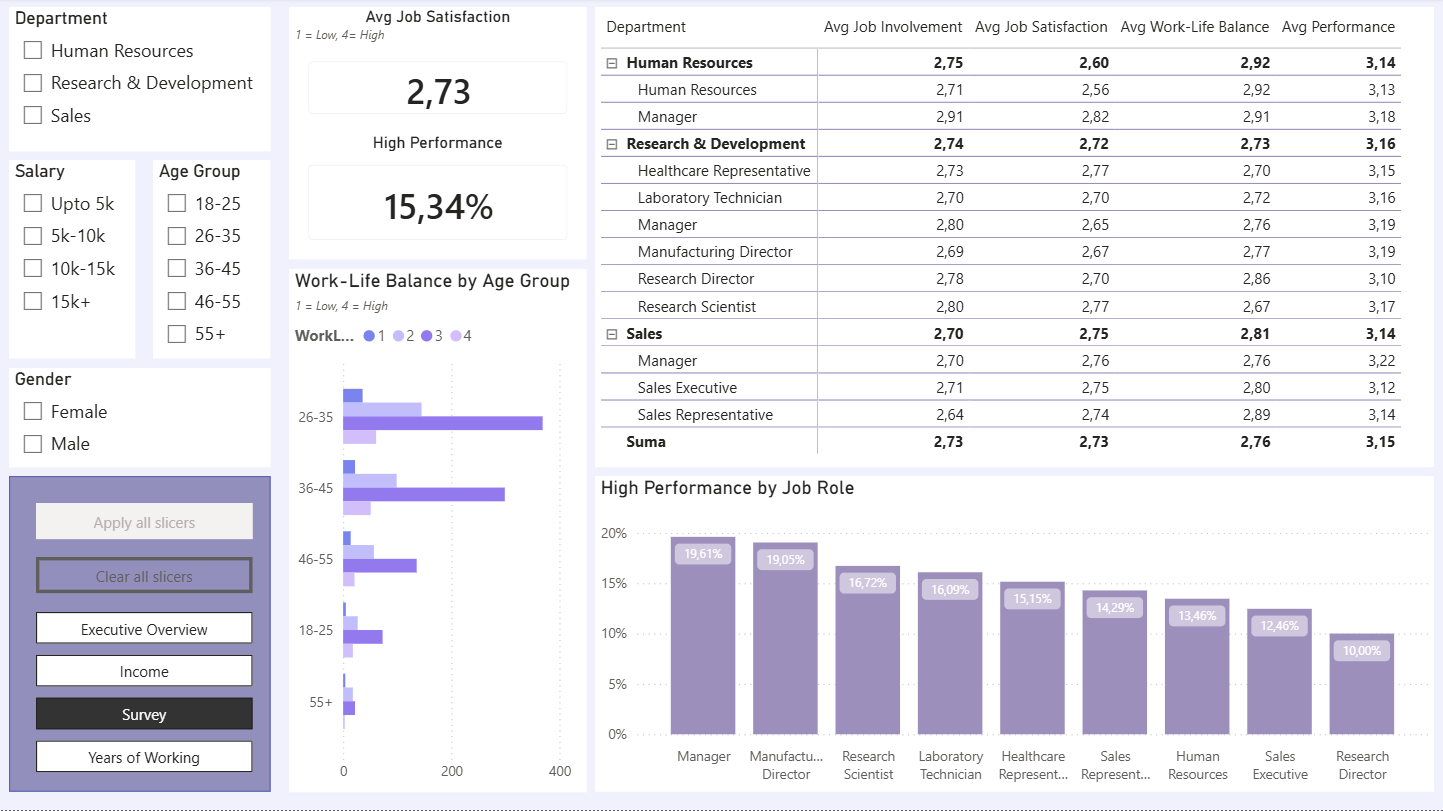

This screenshot's page, from the dashboard's own definition file:
{"tool":"powerbi","page":{"name":"Survey","canvas":[1280,720],"ordinal":2},"visuals":[{"type":"slicer","title":"Salary","fields":{"Values":["HR_Analytics.Salary Slab"]},"box":[8,144,112,176],"z":0},{"type":"slicer","title":"Gender","fields":{"Values":["HR_Analytics.Gender"]},"box":[8,328,232,88],"z":1000},{"type":"slicer","title":"Department","fields":{"Values":["HR_Analytics.Department"]},"box":[8,8,232,128],"z":2000},{"type":"slicer","title":"Age Group","fields":{"Values":["HR_Analytics.AgeGroup"]},"box":[136,144,104,176],"z":3000},{"type":"shape","box":[8,424,232,280],"z":4000},{"type":"pageNavigator","box":[32,544,192,144],"z":5000},{"type":"actionButton","box":[32,448,192,32],"z":6000},{"type":"actionButton","box":[32,496,192,32],"z":7000},{"type":"clusteredBarChart","title":"Work-Life Balance by Age Group","fields":{"Category":["HR_Analytics.AgeGroup"],"Y":["Sum(HR_Analytics.EmployeeCount)"],"Series":["HR_Analytics.WorkLifeBalance"]},"box":[256,240,264,464],"z":8000},{"type":"pivotTable","title":"Work Life Balance by Job Role","fields":{"Rows":["HR_Analytics.Department","HR_Analytics.JobRole"],"Values":["_Measures.Avg Job Involvement","_Measures.Avg Job Satisfaction","_Measures.Avg Work-Life Balance","_Measures.Avg Performance"]},"box":[528,8,744,408],"z":9000},{"type":"clusteredColumnChart","title":"High Performance by Job Role","fields":{"Category":["HR_Analytics.JobRole"],"Y":["_Measures.Performance Rating 4 %"]},"box":[528,424,744,280],"z":10000},{"type":"cardVisual","title":"Avg Job Satisfaction","fields":{"Data":["Avg(HR_Analytics.JobSatisfaction)"]},"box":[256,8,264,112],"z":11000},{"type":"cardVisual","title":"High Performance","fields":{"Data":["_Measures.Performance Rating 4 %"]},"box":[256,120,264,112],"z":12000}]}

Visuals, with their boxes in screenshot pixels (x1, y1, x2, y2), scaled from the page's 1280x720 canvas onto the 1443x811 screenshot:
"Salary" slicer: bbox=[9, 162, 135, 360]
"Gender" slicer: bbox=[9, 369, 271, 469]
"Department" slicer: bbox=[9, 9, 271, 153]
"Age Group" slicer: bbox=[153, 162, 271, 360]
shape: bbox=[9, 478, 271, 793]
pageNavigator: bbox=[36, 613, 253, 775]
actionButton: bbox=[36, 505, 253, 541]
actionButton: bbox=[36, 559, 253, 595]
"Work-Life Balance by Age Group" clusteredBarChart: bbox=[289, 270, 586, 793]
"Work Life Balance by Job Role" pivotTable: bbox=[595, 9, 1434, 469]
"High Performance by Job Role" clusteredColumnChart: bbox=[595, 478, 1434, 793]
"Avg Job Satisfaction" cardVisual: bbox=[289, 9, 586, 135]
"High Performance" cardVisual: bbox=[289, 135, 586, 261]
